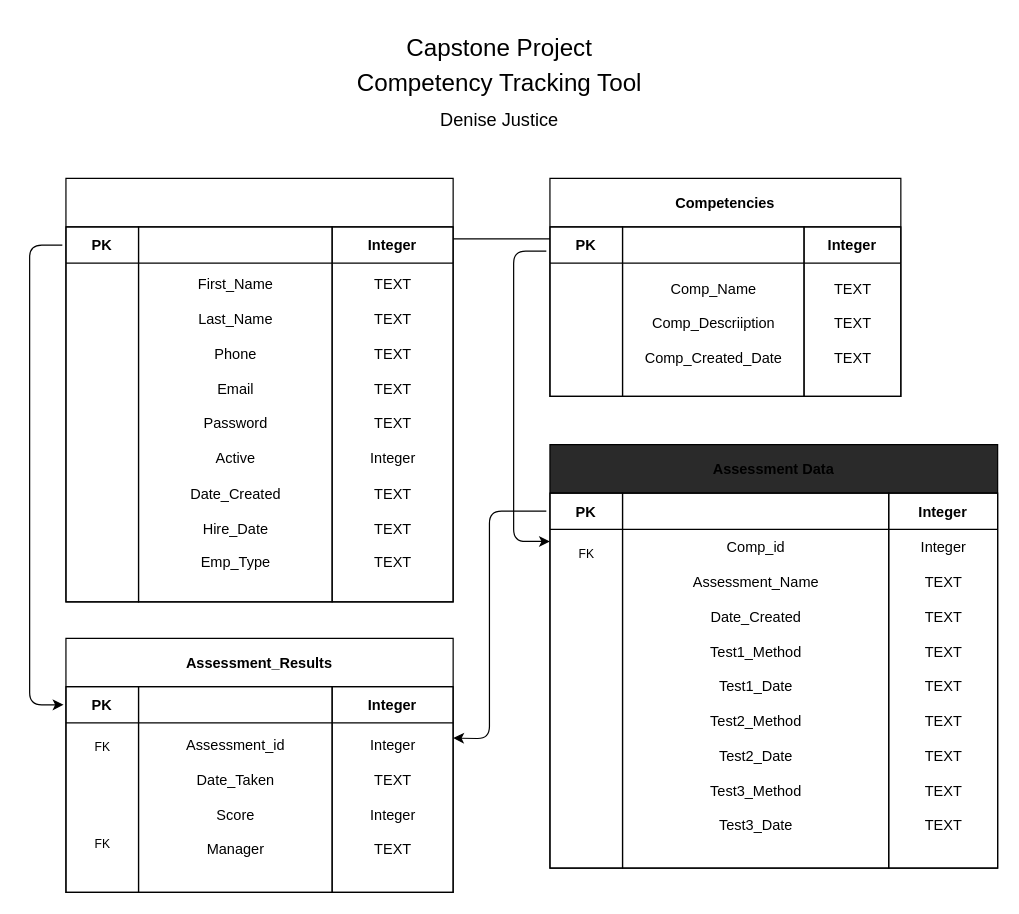
The diagram is 1019 pixels wide and 914 high, and some of its shapes have lost their labels. Here are the shapes that lost their labels. From the top down, the box of each, then its label:
(621, 226, 804, 396): Comp_id
(65, 177, 453, 602): Employees
(137, 226, 332, 602): Emp_id
(621, 492, 889, 868): Assessment_id
(137, 685, 332, 892): user_id
